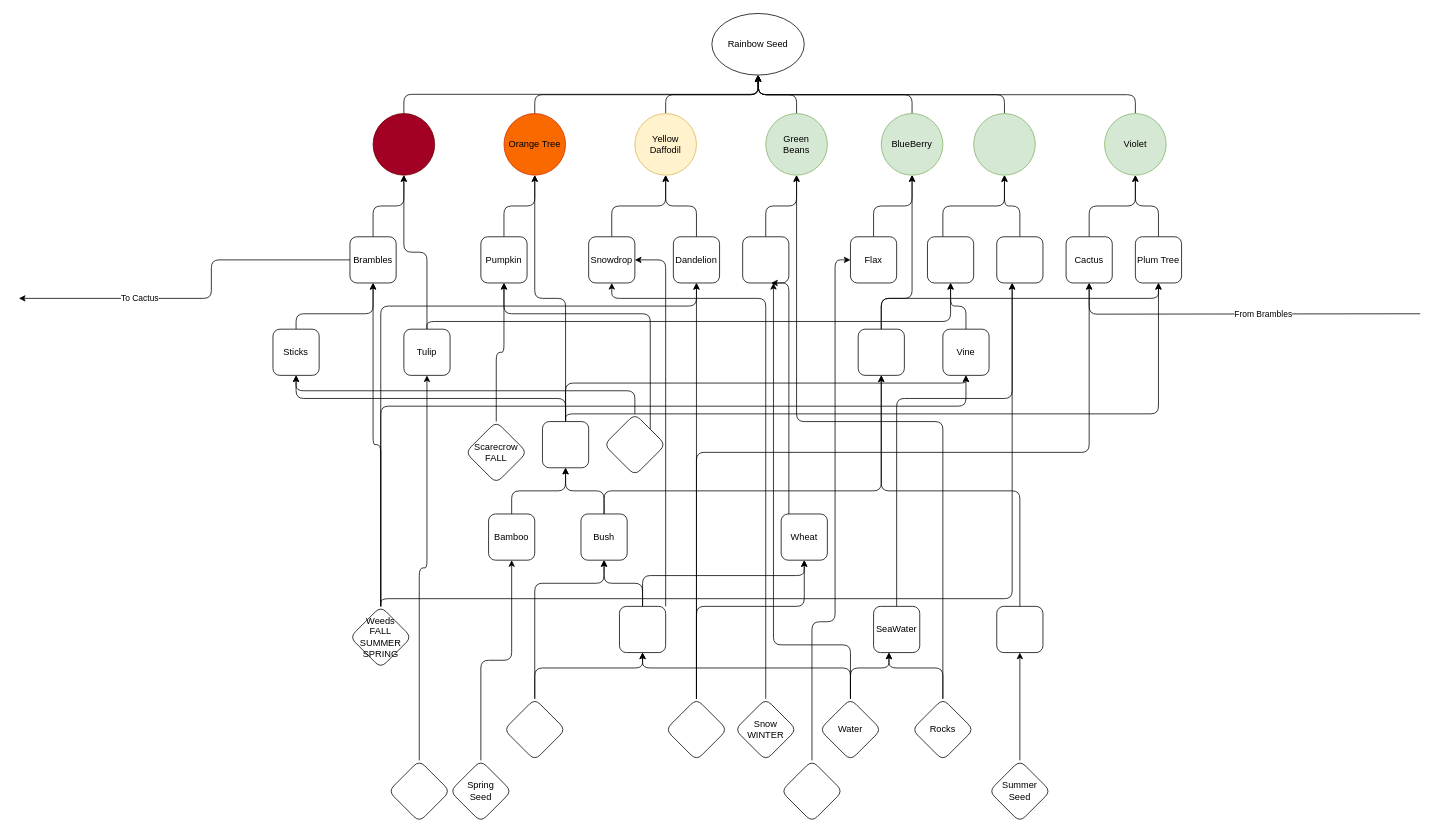
This 1440x835 diagram has some shape labels left out. The centre of each missing label's shape, as x and y in pixels:
Axe WINTER: point (634, 444)
BerryBush: point (880, 351)
Dirt: point (534, 729)
Fall Seed: point (419, 791)
Grass: point (642, 629)
Hops: point (950, 259)
Indigo: point (1004, 144)
Red Rose: point (403, 144)
Reeds: point (765, 259)
Seaweed: point (1019, 259)
Strawberry: point (1019, 629)
Sun: point (696, 729)
Tree: point (565, 444)
Winter Seed: point (811, 791)
